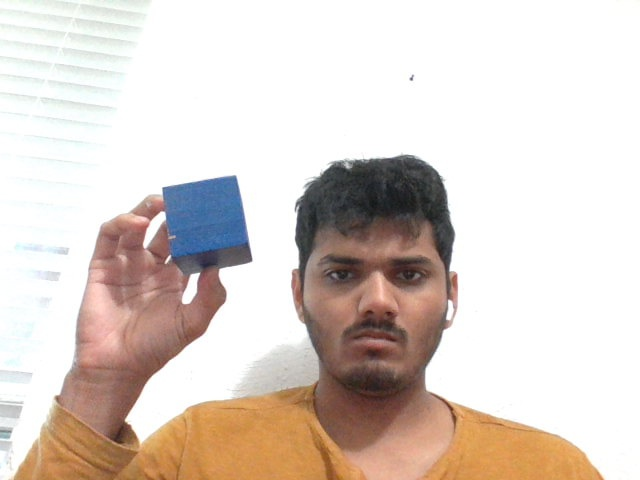BlueBlock: (161, 175, 252, 274)
